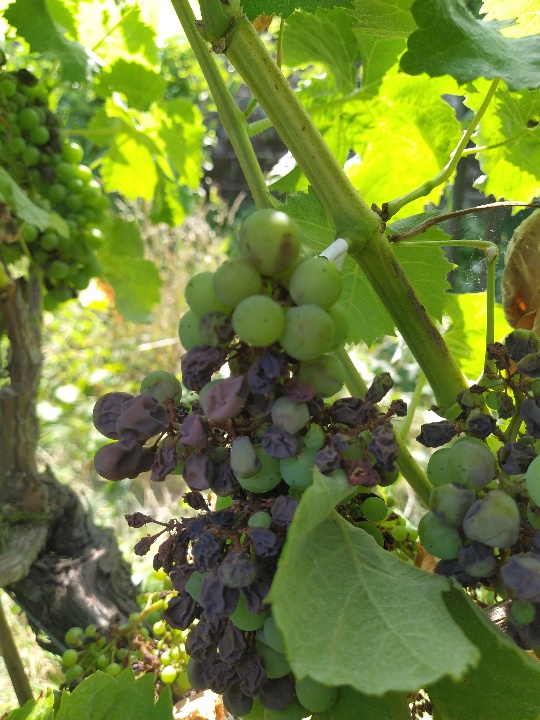grape: (87, 203, 410, 717), (4, 68, 106, 304)
